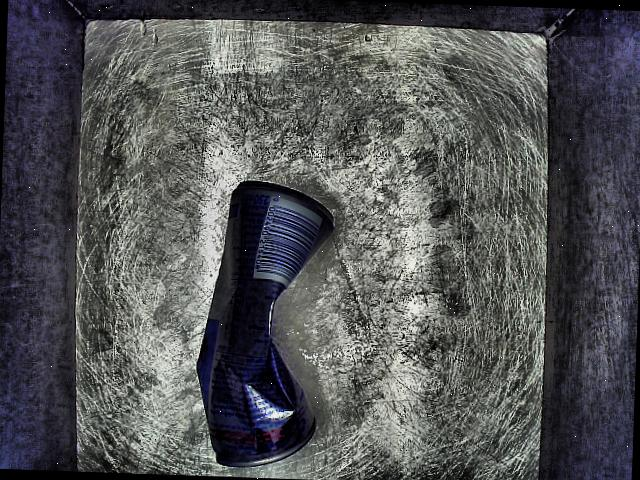Bottles: (182, 146, 363, 480)
